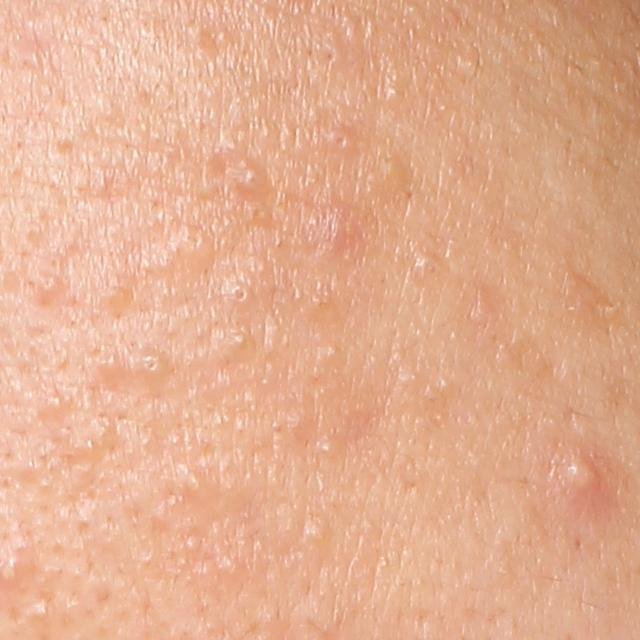comedo: (176, 219, 217, 269), (408, 251, 442, 288), (242, 158, 270, 198), (324, 124, 359, 155), (299, 509, 327, 547), (317, 336, 348, 367), (223, 278, 251, 312), (138, 351, 168, 382), (224, 332, 258, 359), (213, 553, 243, 583), (378, 78, 406, 109), (33, 271, 62, 300), (379, 154, 407, 183), (313, 436, 338, 462), (212, 23, 235, 46), (45, 391, 69, 413)
pustule: (543, 440, 627, 518)
